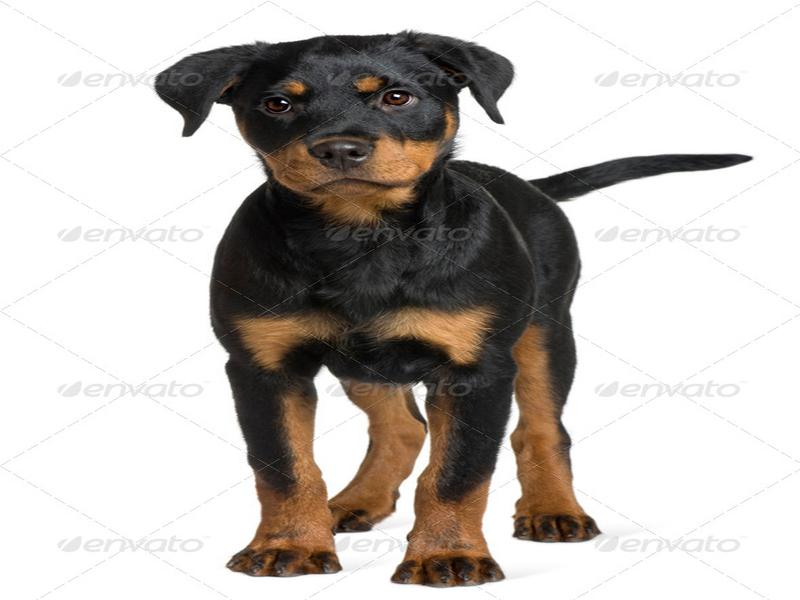dog_stand: (149, 30, 753, 590)
